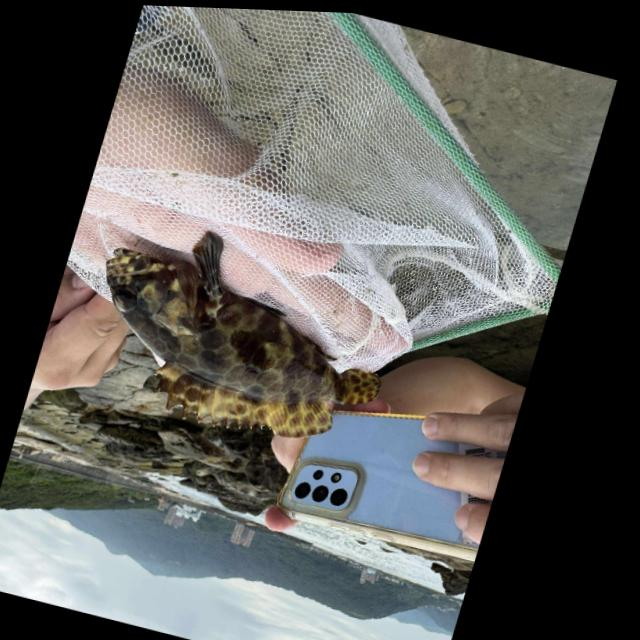Groupers: (64, 207, 415, 461)
